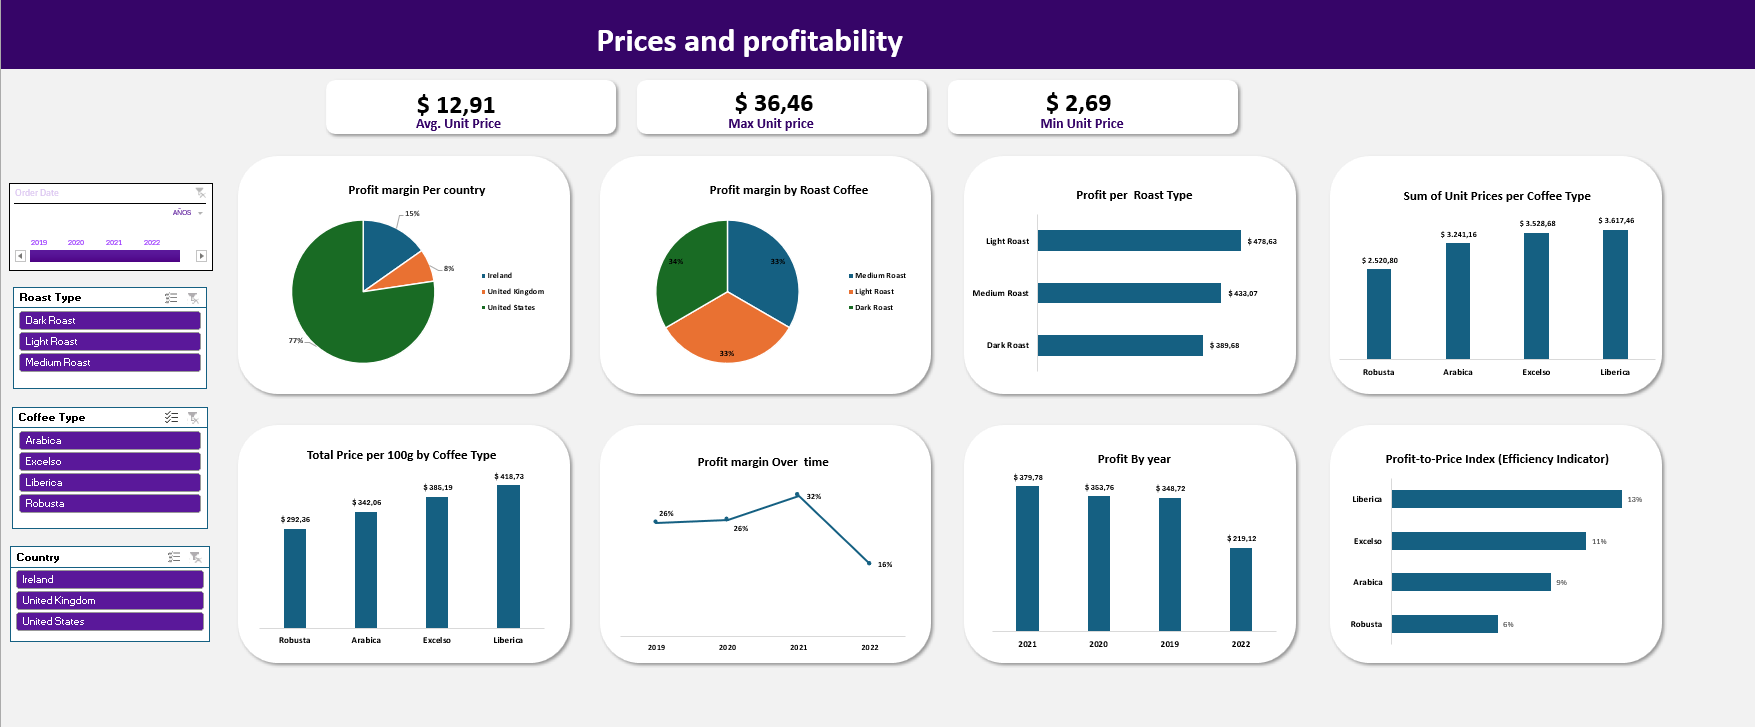

The page's visual inventory and layout, read from the dashboard file:
{"tool":"powerbi","page":{"name":"Página 3","canvas":[1280,720],"ordinal":2},"visuals":[{"type":"shape","box":[10,0,1270,72.8],"z":0},{"type":"textbox","box":[256.7,0,836.3,73.2],"z":1000},{"type":"pieChart","title":"Profit Margin per Country","fields":{"Category":["Combinar2.Country"],"Y":["Sum(Combinar2.Profit Margin (relative profit per product))"]},"box":[293.9,212.6,400,230],"z":2000},{"type":"pieChart","title":"Profit Margin by roast coffee","fields":{"Y":["CountNonNull(Combinar2.Quantity)"],"Category":["Combinar2.Roast Type"]},"box":[724.8,212.6,400,230],"z":4000},{"type":"clusteredColumnChart","title":"Profit per Roast Type","fields":{"Category":["Combinar2.Roast Type"],"Y":["Sum(Combinar2.Profit)"]},"box":[285.7,477.4,400,230],"z":5000},{"type":"group","id":"g1","title":"Grupo 1","box":[353.1,81.3,180,80.1],"z":6000},{"type":"group","id":"g2","title":"Grupo 1","box":[568,81.3,180,80.1],"z":7000},{"type":"group","id":"g3","title":"Grupo 1","box":[781.7,81.3,180,80.1],"z":8000},{"type":"card","fields":{"Values":["Avg(Combinar2.Unit Price)"]},"box":[353.1,81.3,180,80],"z":9000,"group":"g1"},{"type":"card","fields":{"Values":["Max(Data_products 33.Unit Price)"]},"box":[568,81.3,180,80],"z":9000,"group":"g2"},{"type":"card","fields":{"Values":["Min(Data_products 33.Unit Price)"]},"box":[781.7,81.3,180,80],"z":9000,"group":"g3"},{"type":"slicer","fields":{"Values":["Calendario.Year"]},"box":[11.9,144.2,235.8,115],"z":9000},{"type":"slicer","fields":{"Values":["Combinar2.Country"]},"box":[11.9,285.8,235.8,102.2],"z":10000},{"type":"slicer","fields":{"Values":["Data_products 33.Coffee type"]},"box":[11.9,414.7,235.8,119.6],"z":11000},{"type":"slicer","fields":{"Values":["Combinar2.Roast Type"]},"box":[10.7,561,238.1,122],"z":12000},{"type":"clusteredColumnChart","title":"Sum of unit prices per Coffee type","fields":{"Y":["Sum(Combinar2.Unit Price)"],"Category":["Combinar2.Coffee Type"]},"box":[725.3,477,399,229.7],"z":12001}]}

Visuals, with their boxes on the page's 1280x720 design canvas (x1, y1, x2, y2). These are canvas units, not pixel positions in the 1755x727 screenshot, which may show the page scaled, cropped or inside an application window:
shape: 10/0/1280/73
textbox: 257/0/1093/73
"Profit Margin per Country" pieChart: 294/213/694/443
"Profit Margin by roast coffee" pieChart: 725/213/1125/443
"Profit per Roast Type" clusteredColumnChart: 286/477/686/707
"Grupo 1" group: 353/81/533/161
"Grupo 1" group: 568/81/748/161
"Grupo 1" group: 782/81/962/161
card - Avg(Combinar2.Unit Price): 353/81/533/161
card - Max(Data_products 33.Unit Price): 568/81/748/161
card - Min(Data_products 33.Unit Price): 782/81/962/161
slicer - Calendario.Year: 12/144/248/259
slicer - Combinar2.Country: 12/286/248/388
slicer - Data_products 33.Coffee type: 12/415/248/534
slicer - Combinar2.Roast Type: 11/561/249/683
"Sum of unit prices per Coffee type" clusteredColumnChart: 725/477/1124/707
